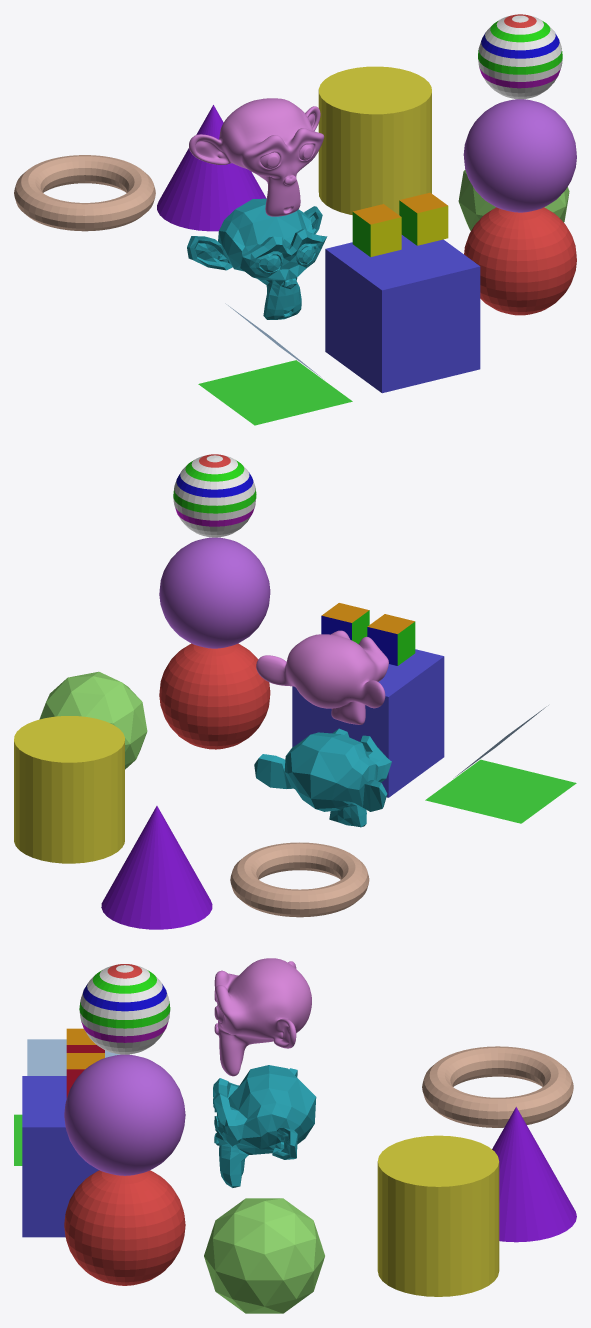
Rendered from cubeonly.dae.
3 views of the same model, one above another, from view 1: azimuth 30°, elevation 25°; view 2: azimuth 150°, elevation 25°; view 3: azimuth 270°, elevation 25° (orthographic). The views are drawn at different scales.
Visible parts, largest first — view 1: Cube_001, Cylinder, Sphere_001, Sphere, Suzanne, SuzanneSmooth, Torus, Cone, Sphere_002, Plane, CubeLinkedLeft, CubeLinkedRight (+1 smaller); view 2: Cylinder, Cube_001, Sphere_001, Sphere, Suzanne, Cone, SuzanneSmooth, Torus, Sphere_002, Plane, Icohsphere, CubeLinkedLeft (+1 smaller); view 3: Cylinder, Sphere_001, Sphere, Icohsphere, Suzanne, Torus, Cube_001, SuzanneSmooth, Cone, Sphere_002, Plane_001, CubeLinkedRight (+2 smaller).
Part boxes in pixels (left/top/right/bottom): Cube_001: left=325, top=235, right=480, bottom=393; Cylinder: left=318, top=66, right=431, bottom=214; Sphere_001: left=463, top=99, right=576, bottom=212; Sphere: left=464, top=207, right=576, bottom=315; Suzanne: left=187, top=198, right=327, bottom=319; SuzanneSmooth: left=189, top=98, right=324, bottom=216; Torus: left=14, top=155, right=155, bottom=231; Cone: left=157, top=105, right=266, bottom=231; Sphere_002: left=478, top=14, right=562, bottom=99; Plane: left=198, top=360, right=352, bottom=425; CubeLinkedLeft: left=352, top=204, right=401, bottom=257; CubeLinkedRight: left=399, top=192, right=448, bottom=245; Cylinder: left=14, top=716, right=124, bottom=863; Cube_001: left=292, top=649, right=444, bottom=797; Sphere_001: left=159, top=537, right=270, bottom=648; Sphere: left=159, top=643, right=270, bottom=749; Suzanne: left=254, top=728, right=391, bottom=827; Cone: left=101, top=806, right=212, bottom=929; SuzanneSmooth: left=256, top=630, right=388, bottom=724; Torus: left=230, top=842, right=369, bottom=917; Sphere_002: left=173, top=454, right=256, bottom=537; Plane: left=425, top=759, right=576, bottom=823; Icohsphere: left=39, top=671, right=147, bottom=769; CubeLinkedLeft: left=367, top=614, right=415, bottom=665; Cylinder: left=377, top=1135, right=499, bottom=1296; Sphere_001: left=64, top=1054, right=185, bottom=1175; Sphere: left=64, top=1170, right=185, bottom=1285; Icohsphere: left=204, top=1198, right=324, bottom=1313; Suzanne: left=213, top=1065, right=316, bottom=1187; Torus: left=422, top=1046, right=573, bottom=1127; Cube_001: left=22, top=1076, right=98, bottom=1237; SuzanneSmooth: left=214, top=958, right=311, bottom=1076; Cone: left=492, top=1107, right=576, bottom=1242; Sphere_002: left=79, top=964, right=170, bottom=1054; Plane_001: left=27, top=1039, right=119, bottom=1075; CubeLinkedRight: left=66, top=1053, right=104, bottom=1098.
Bounding box in the file's own units: 8.71 × 9.27 × 5.73.
